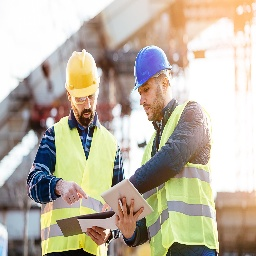helmet: (131, 43, 174, 94), (62, 47, 104, 98)
person: (41, 48, 132, 256), (133, 47, 212, 256)
vest: (136, 100, 211, 256), (50, 117, 119, 256)
